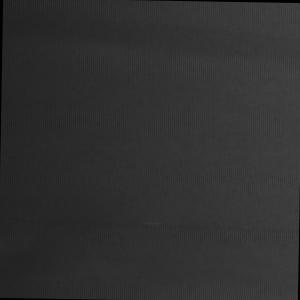Wrinkle: (2, 1, 300, 78), (1, 194, 118, 300)
